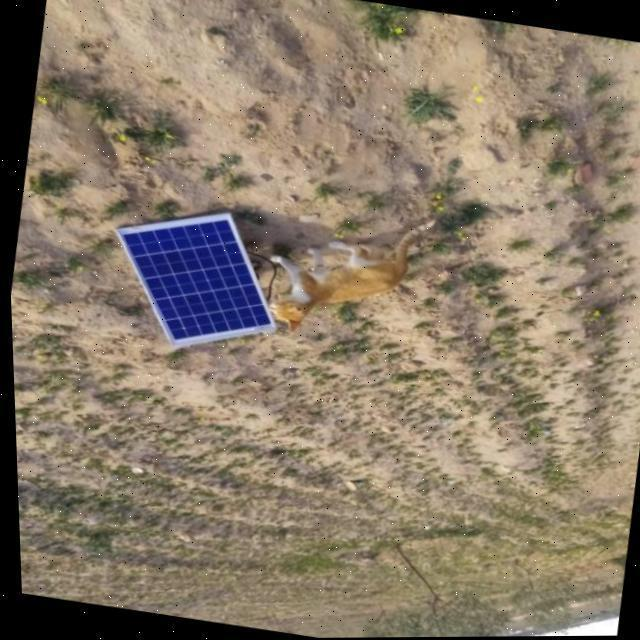Normal Solar Panel: (98, 196, 291, 362)
